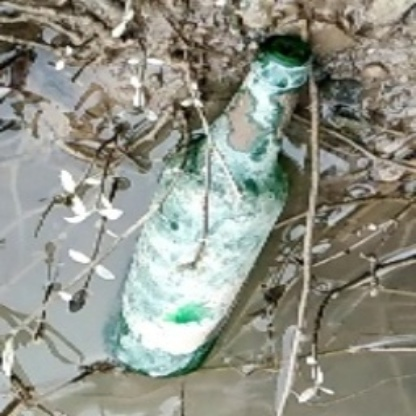bottle: (104, 29, 311, 381)
